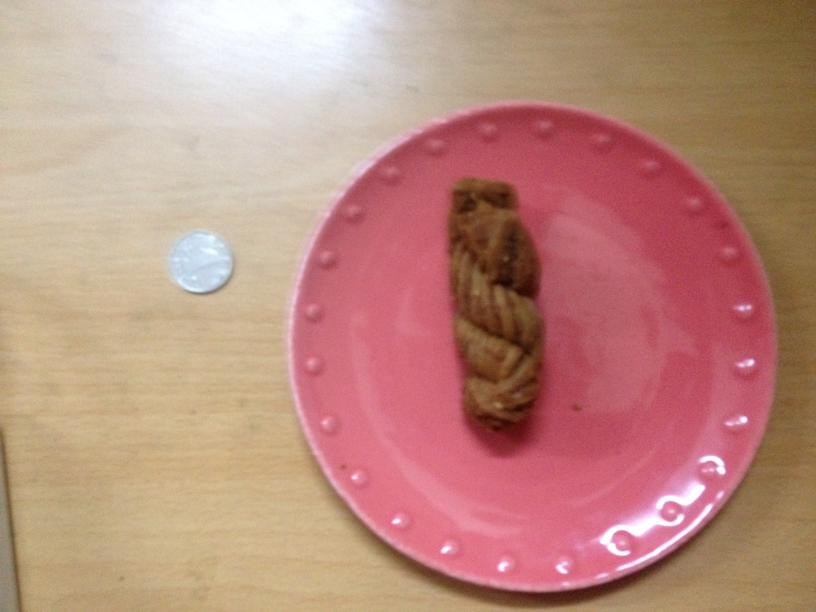coin: (168, 229, 234, 292)
fired_dough_twist: (443, 175, 546, 424)
